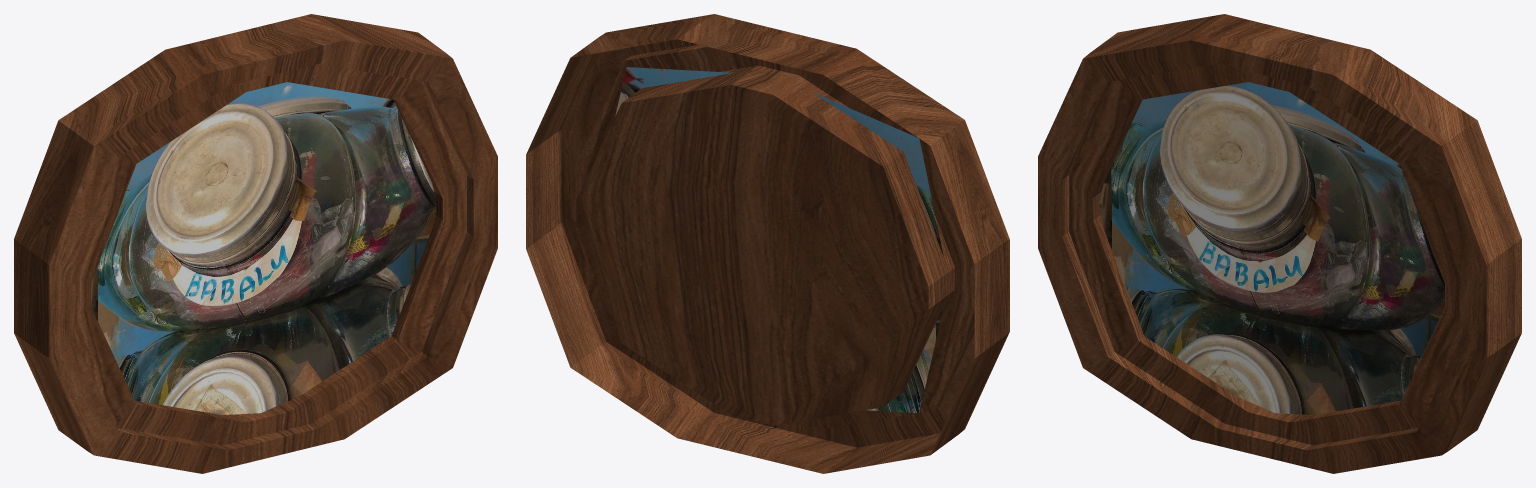
The model's file is PROP_quadro_3.glb.
3 renders of one model, left to right at view 1: azimuth 30°, elevation 25°; view 2: azimuth 150°, elevation 25°; view 3: azimuth 330°, elevation 25°, orthographic.
Visible parts, largest first — view 1: Cube.006, Cube.005; view 2: Cube.006, Cube.005; view 3: Cube.006, Cube.005.
Part boxes in pixels (x1,y1,x2,y2): Cube.006: (14,14,497,473); Cube.005: (91,82,436,414); Cube.006: (526,14,1009,473); Cube.005: (615,67,943,412); Cube.006: (1038,14,1521,473); Cube.005: (1099,82,1444,414).
Bounding box in the file's own units: 0.665 × 0.5653 × 0.0906.
Materials: 2 (2 with a texture image).
